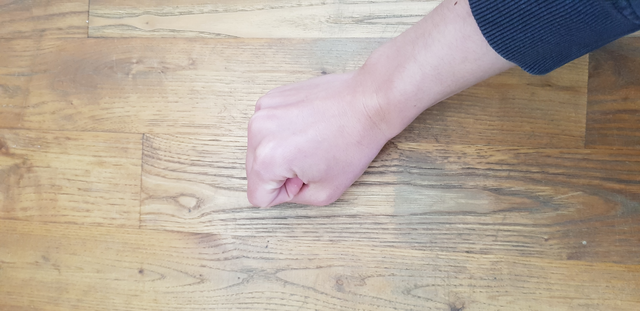Rock: (207, 62, 414, 233)
